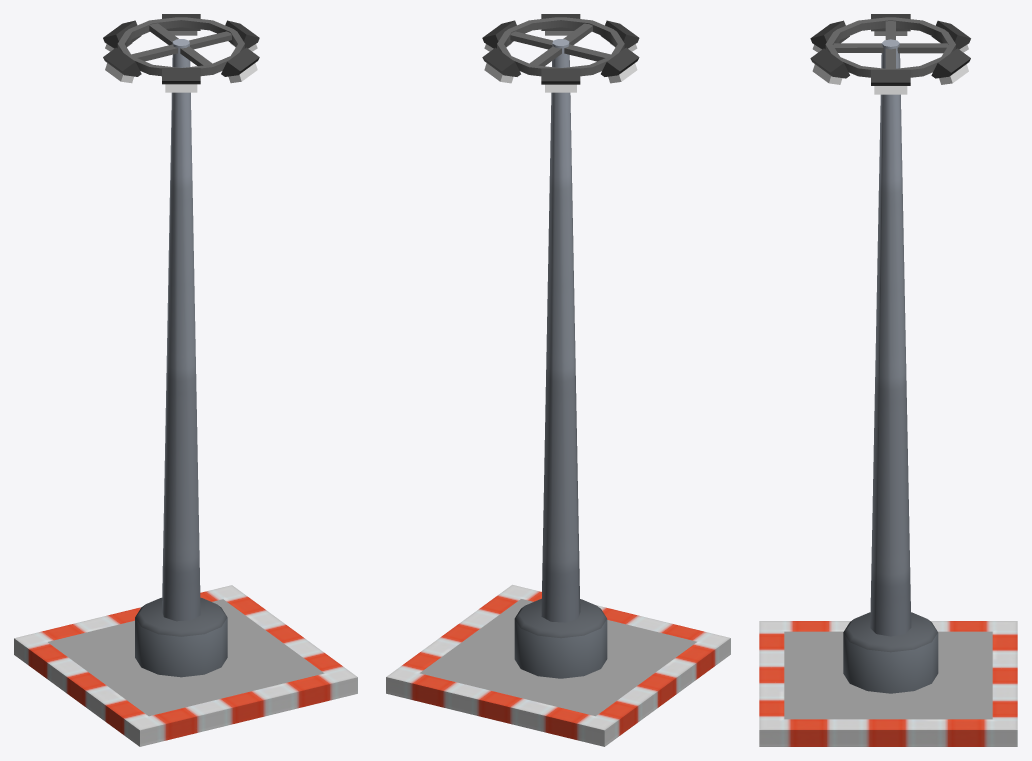
Rendered from Flood Light.fbx.
The picture shows the model from 3 angles, left to right: view 1: azimuth 30°, elevation 25°; view 2: azimuth 150°, elevation 25°; view 3: azimuth 270°, elevation 25°; orthographic projection. The views are drawn at different scales.
Visible parts, largest first — view 1: Light_Pole, Prop_Flood_Lighting; view 2: Light_Pole, Prop_Flood_Lighting; view 3: Light_Pole, Prop_Flood_Lighting.
Part boxes in pixels (<box>): Light_Pole: <box>103,14,259,677</box>; Prop_Flood_Lighting: <box>14,585,357,746</box>; Light_Pole: <box>482,14,639,678</box>; Prop_Flood_Lighting: <box>386,584,730,746</box>; Light_Pole: <box>810,14,970,693</box>; Prop_Flood_Lighting: <box>759,621,1017,746</box>.
Bounding box in the file's own units: 737 × 2047 × 737.
